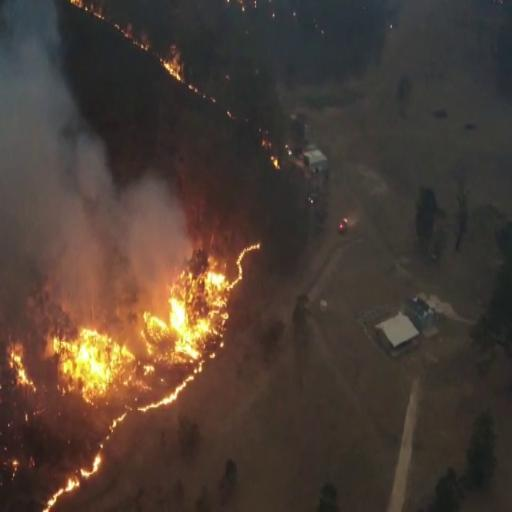fire: (1, 236, 266, 512), (60, 1, 297, 176), (330, 215, 355, 236)
smoke: (0, 162, 178, 320), (5, 7, 108, 159)
